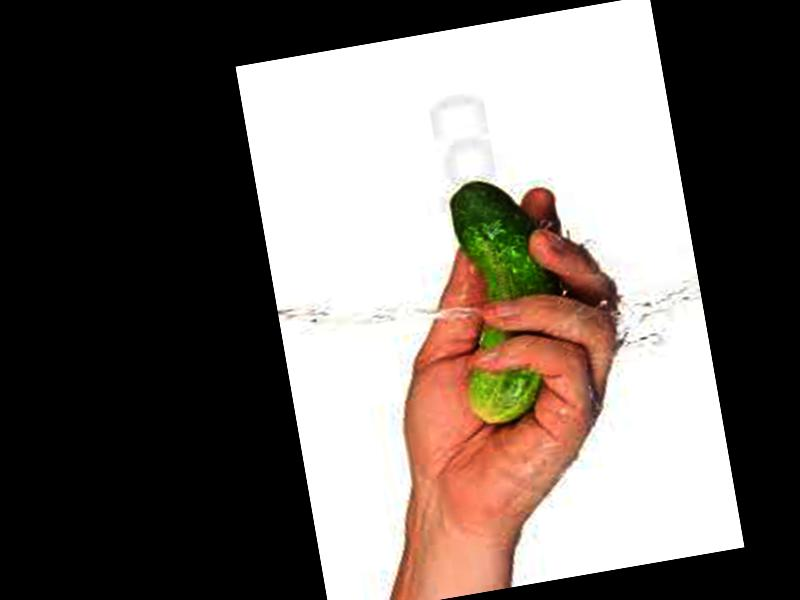Cucumber: (436, 170, 574, 426)
